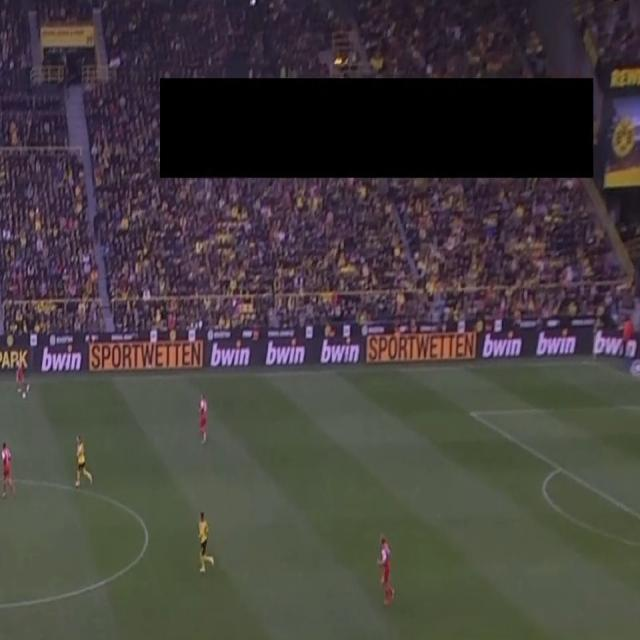ball: (22, 390, 28, 400)
